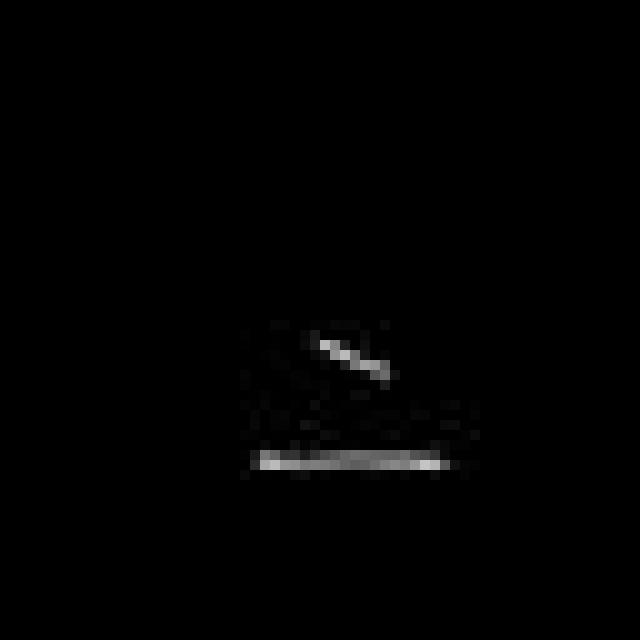2 -two-: (253, 326, 457, 496)
